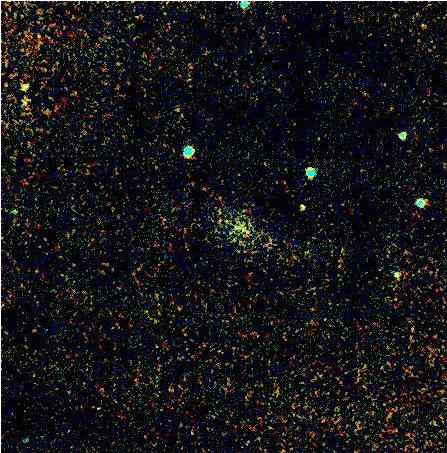star: (286, 194, 316, 224)
